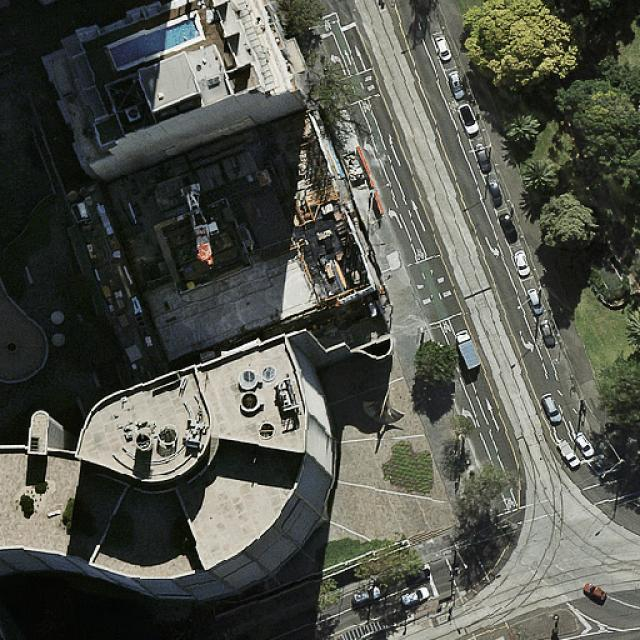Bike-Symbols: (504, 496, 516, 510), (414, 247, 426, 261), (441, 320, 453, 333), (360, 100, 372, 113), (322, 19, 332, 32)
